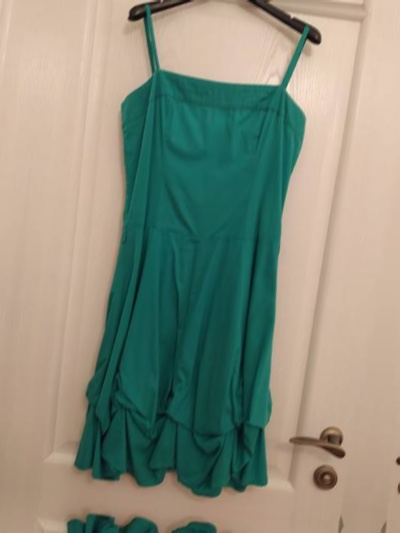Dress: (44, 8, 364, 512), (0, 501, 305, 533), (0, 0, 0, 469)
